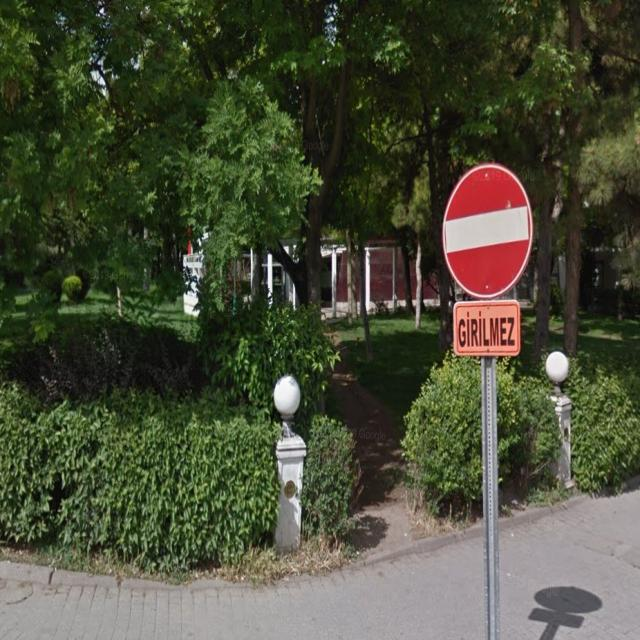girisyok: (442, 162, 533, 301)
